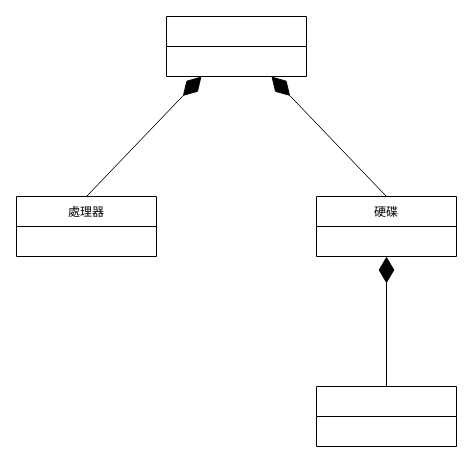
Some shapes in this 473 by 463 pixel diagram are drawn without their labels. The shapes that lost their labels are listed below. From the top down, each one's centre as x and y in pixels, then its label:
At point 236,46: "電腦".
At point 386,416: "插槽".
